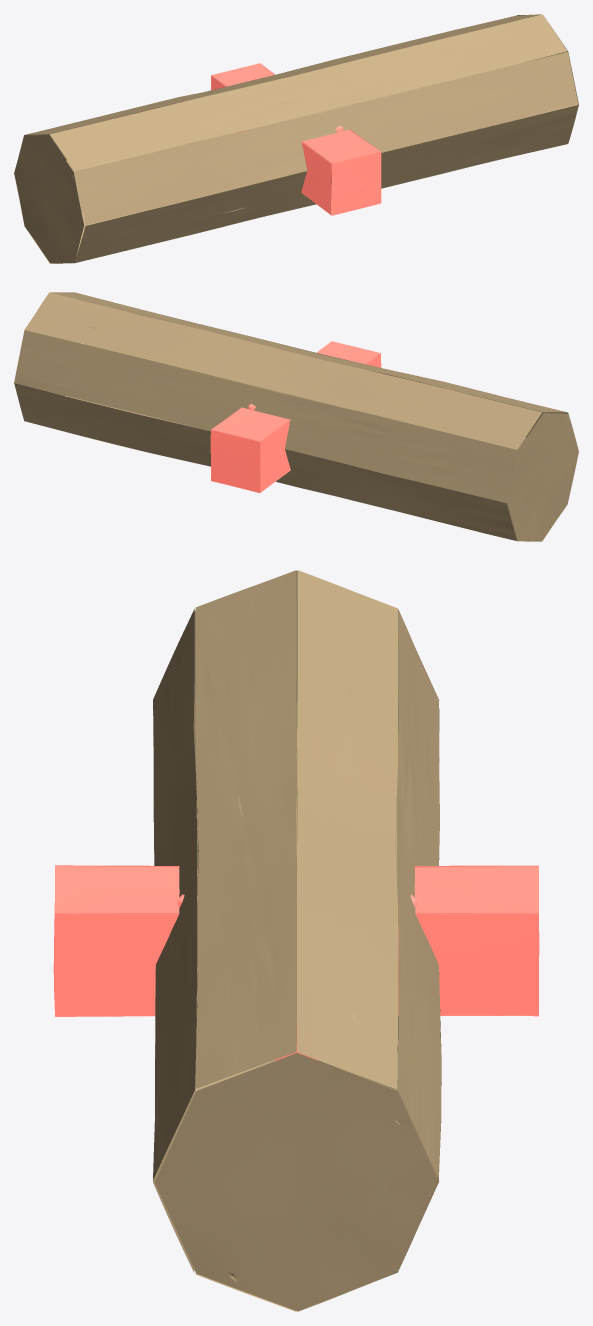
File: scroll.glb
3 views of the same model, one above another, from view 1: azimuth 30°, elevation 25°; view 2: azimuth 150°, elevation 25°; view 3: azimuth 270°, elevation 25° (orthographic). The views are drawn at different scales.
Parts seen in each view (by area): view 1: Scroll; view 2: Scroll; view 3: Scroll.
Part boxes in pixels (x1=…): Scroll: x1=14, y1=14, x2=578, y2=263; Scroll: x1=14, y1=292, x2=578, y2=541; Scroll: x1=53, y1=570, x2=539, y2=1311.
Size of the model in its own units: 0.8038 by 0.2022 by 0.3411.
